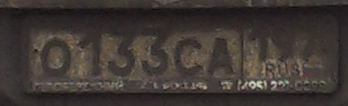character: (139, 25, 171, 79), (76, 27, 107, 78), (109, 25, 139, 77), (39, 36, 71, 78), (172, 38, 205, 78), (206, 35, 236, 78), (270, 20, 298, 63), (247, 20, 271, 65), (300, 18, 324, 62)
